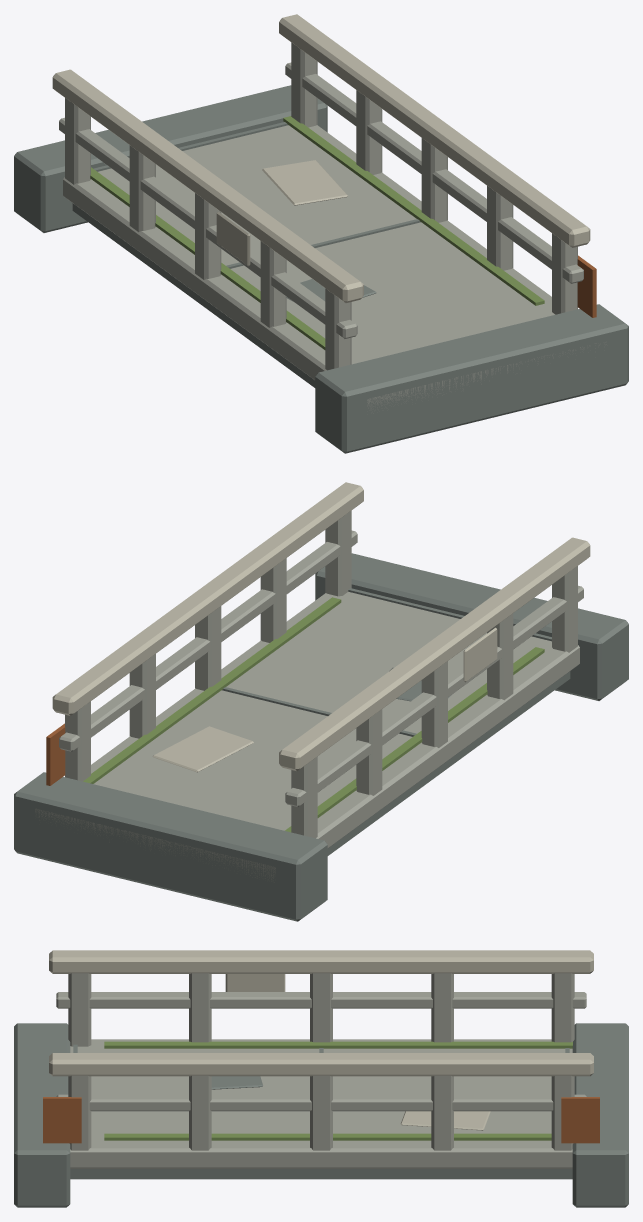
File: old_concrete_bridge.glb
3 renders of one model, top to bottom at view 1: azimuth 30°, elevation 25°; view 2: azimuth 150°, elevation 25°; view 3: azimuth 270°, elevation 25°, orthographic. The views are drawn at different scales.
Parts seen in each view (by area): view 1: BridgeDeck, Abutment_-3.18, RailTop_L, RailTop_R, Abutment_3.18, RailMid_R, RailMid_L, MossEdge_R, RepairPatchB, DeckUnderside, MossEdge_L, RailPost_L_3 (+11 smaller); view 2: BridgeDeck, Abutment_3.18, RailTop_L, RailTop_R, Abutment_-3.18, RailMid_R, RailMid_L, MossEdge_R, RepairPatchB, DeckUnderside, MossEdge_L, RailPost_L_3 (+12 smaller); view 3: BridgeDeck, RailTop_L, RailTop_R, Abutment_-3.18, Abutment_3.18, RailMid_L, RailMid_R, DeckUnderside, MossEdge_L, MossEdge_R, RustTie_2.95, RustTie_-2.95 (+13 smaller).
Part boxes in pixels (x1,y1,x2,y2): BridgeDeck: [63, 125, 606, 413]; Abutment_-3.18: [315, 304, 628, 453]; RailTop_L: [52, 69, 363, 302]; RailTop_R: [279, 14, 590, 247]; Abutment_3.18: [14, 85, 327, 232]; RailMid_R: [285, 62, 583, 283]; RailMid_L: [59, 117, 357, 338]; MossEdge_R: [283, 116, 544, 305]; RepairPatchB: [262, 160, 347, 205]; DeckUnderside: [72, 203, 315, 387]; MossEdge_L: [90, 167, 325, 349]; RailPost_L_3: [129, 145, 155, 232]; BridgeDeck: [35, 592, 579, 882]; Abutment_3.18: [14, 772, 327, 921]; RailTop_L: [279, 537, 590, 770]; RailTop_R: [52, 482, 363, 715]; Abutment_-3.18: [315, 553, 628, 700]; RailMid_R: [59, 530, 357, 751]; RailMid_L: [285, 585, 583, 806]; MossEdge_R: [83, 597, 341, 783]; RepairPatchB: [153, 726, 253, 772]; DeckUnderside: [327, 671, 570, 855]; MossEdge_L: [285, 647, 544, 832]; RailPost_L_3: [356, 709, 382, 795]; BridgeDeck: [70, 1039, 572, 1168]; RailTop_L: [49, 950, 593, 973]; RailTop_R: [49, 1053, 593, 1076]; Abutment_-3.18: [14, 1023, 70, 1207]; Abutment_3.18: [572, 1023, 628, 1207]; RailMid_L: [56, 992, 586, 1008]; RailMid_R: [56, 1094, 586, 1111]; DeckUnderside: [70, 1169, 572, 1179]; MossEdge_L: [104, 1041, 572, 1048]; MossEdge_R: [104, 1133, 551, 1140]; RustTie_2.95: [561, 1097, 599, 1143]; RustTie_-2.95: [43, 1097, 81, 1143].
Size of the model in its own units: 3.5 by 1.74 by 7.
